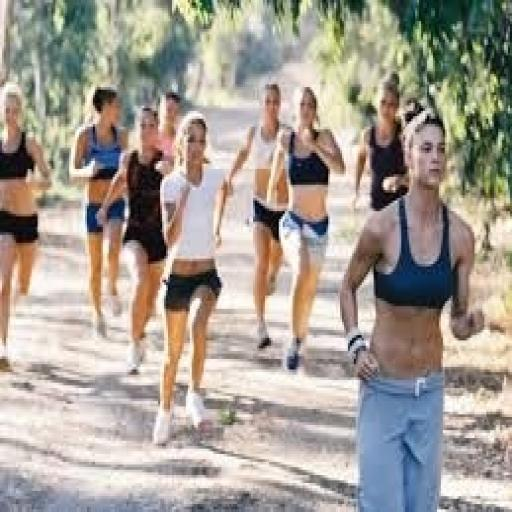running: (338, 100, 488, 510), (150, 108, 234, 449), (265, 82, 348, 377), (95, 103, 176, 380), (222, 79, 294, 354), (68, 82, 132, 340), (0, 79, 55, 374)
